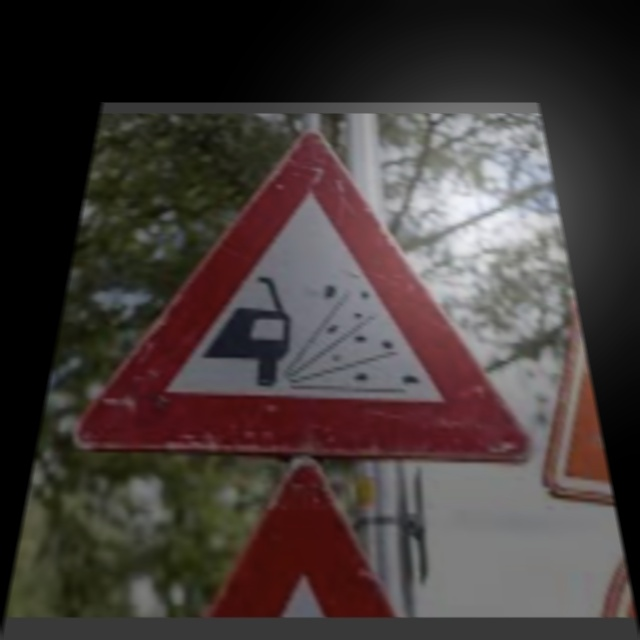Loose_Gravel: (86, 131, 532, 459)
